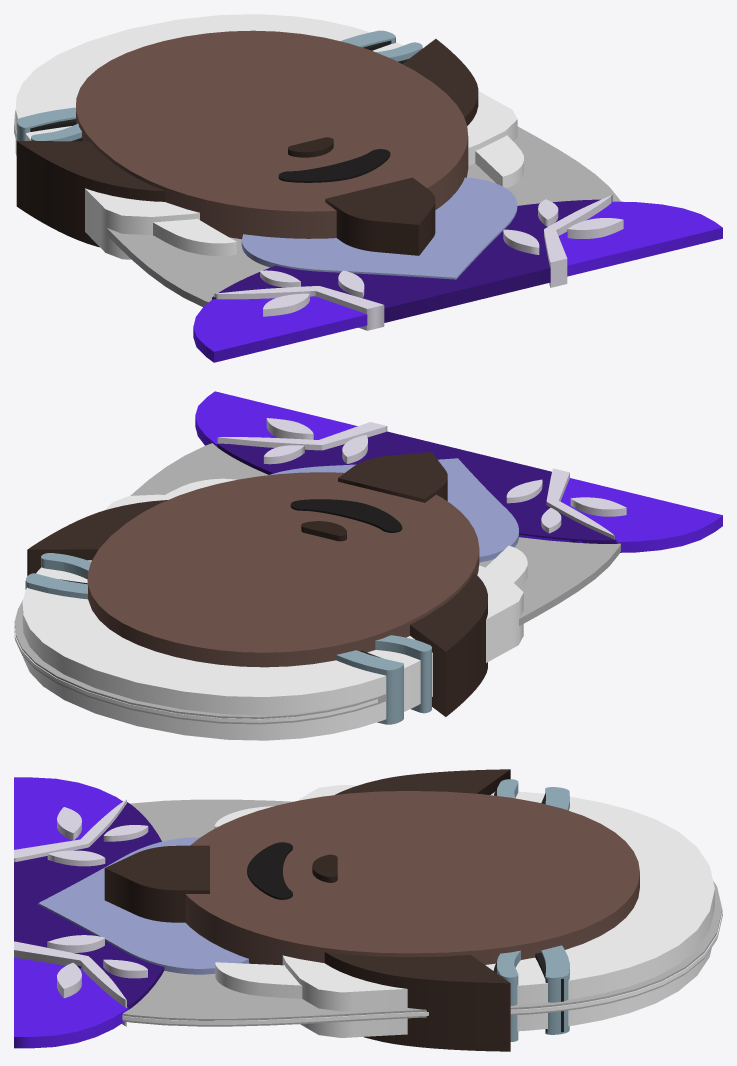
The model's file is emoji_u1f9dd_1f3ff_200d_2640.glb.
3 views of the same model, one above another, from view 1: azimuth 30°, elevation 25°; view 2: azimuth 150°, elevation 25°; view 3: azimuth 270°, elevation 25° (orthographic). The views are drawn at different scales.
Parts seen in each view (by area): view 1: emoji_u1f9dd_1f3ff_200d_2640; view 2: emoji_u1f9dd_1f3ff_200d_2640; view 3: emoji_u1f9dd_1f3ff_200d_2640.
Boxes of the visible parts, <box> form: emoji_u1f9dd_1f3ff_200d_2640: <box>14,14,722,362</box>; emoji_u1f9dd_1f3ff_200d_2640: <box>14,391,722,740</box>; emoji_u1f9dd_1f3ff_200d_2640: <box>14,769,722,1051</box>.
Bounding box in the file's own units: 0.0293 × 0.0046 × 0.0338.
